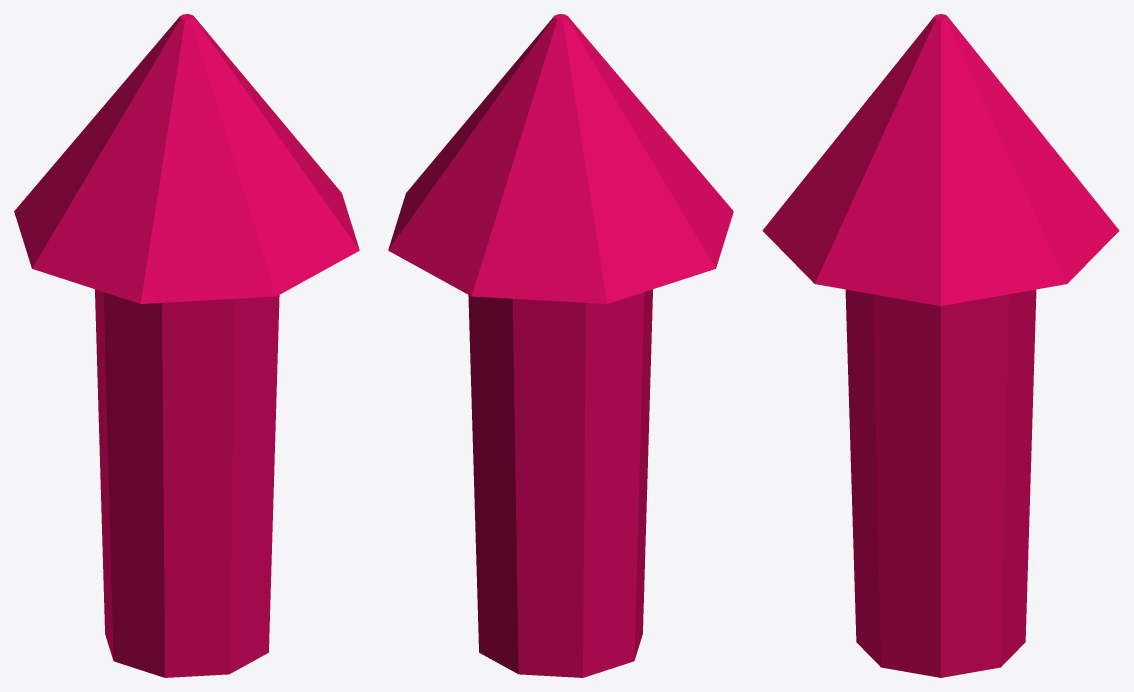
Rendered from debug.gltf.
3 views of the same model, side by side, from view 1: azimuth 30°, elevation 25°; view 2: azimuth 150°, elevation 25°; view 3: azimuth 270°, elevation 25° (orthographic).
Parts seen in each view (by area): view 1: debug arrow; view 2: debug arrow; view 3: debug arrow.
Boxes of the visible parts, <box> form: debug arrow: <box>14,14,359,677</box>; debug arrow: <box>388,14,733,677</box>; debug arrow: <box>762,14,1119,677</box>.
Size of the model in its own units: 1.03 by 1.99 by 1.03.
